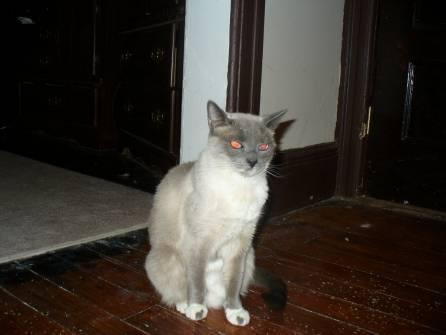cat: (144, 101, 294, 325)
